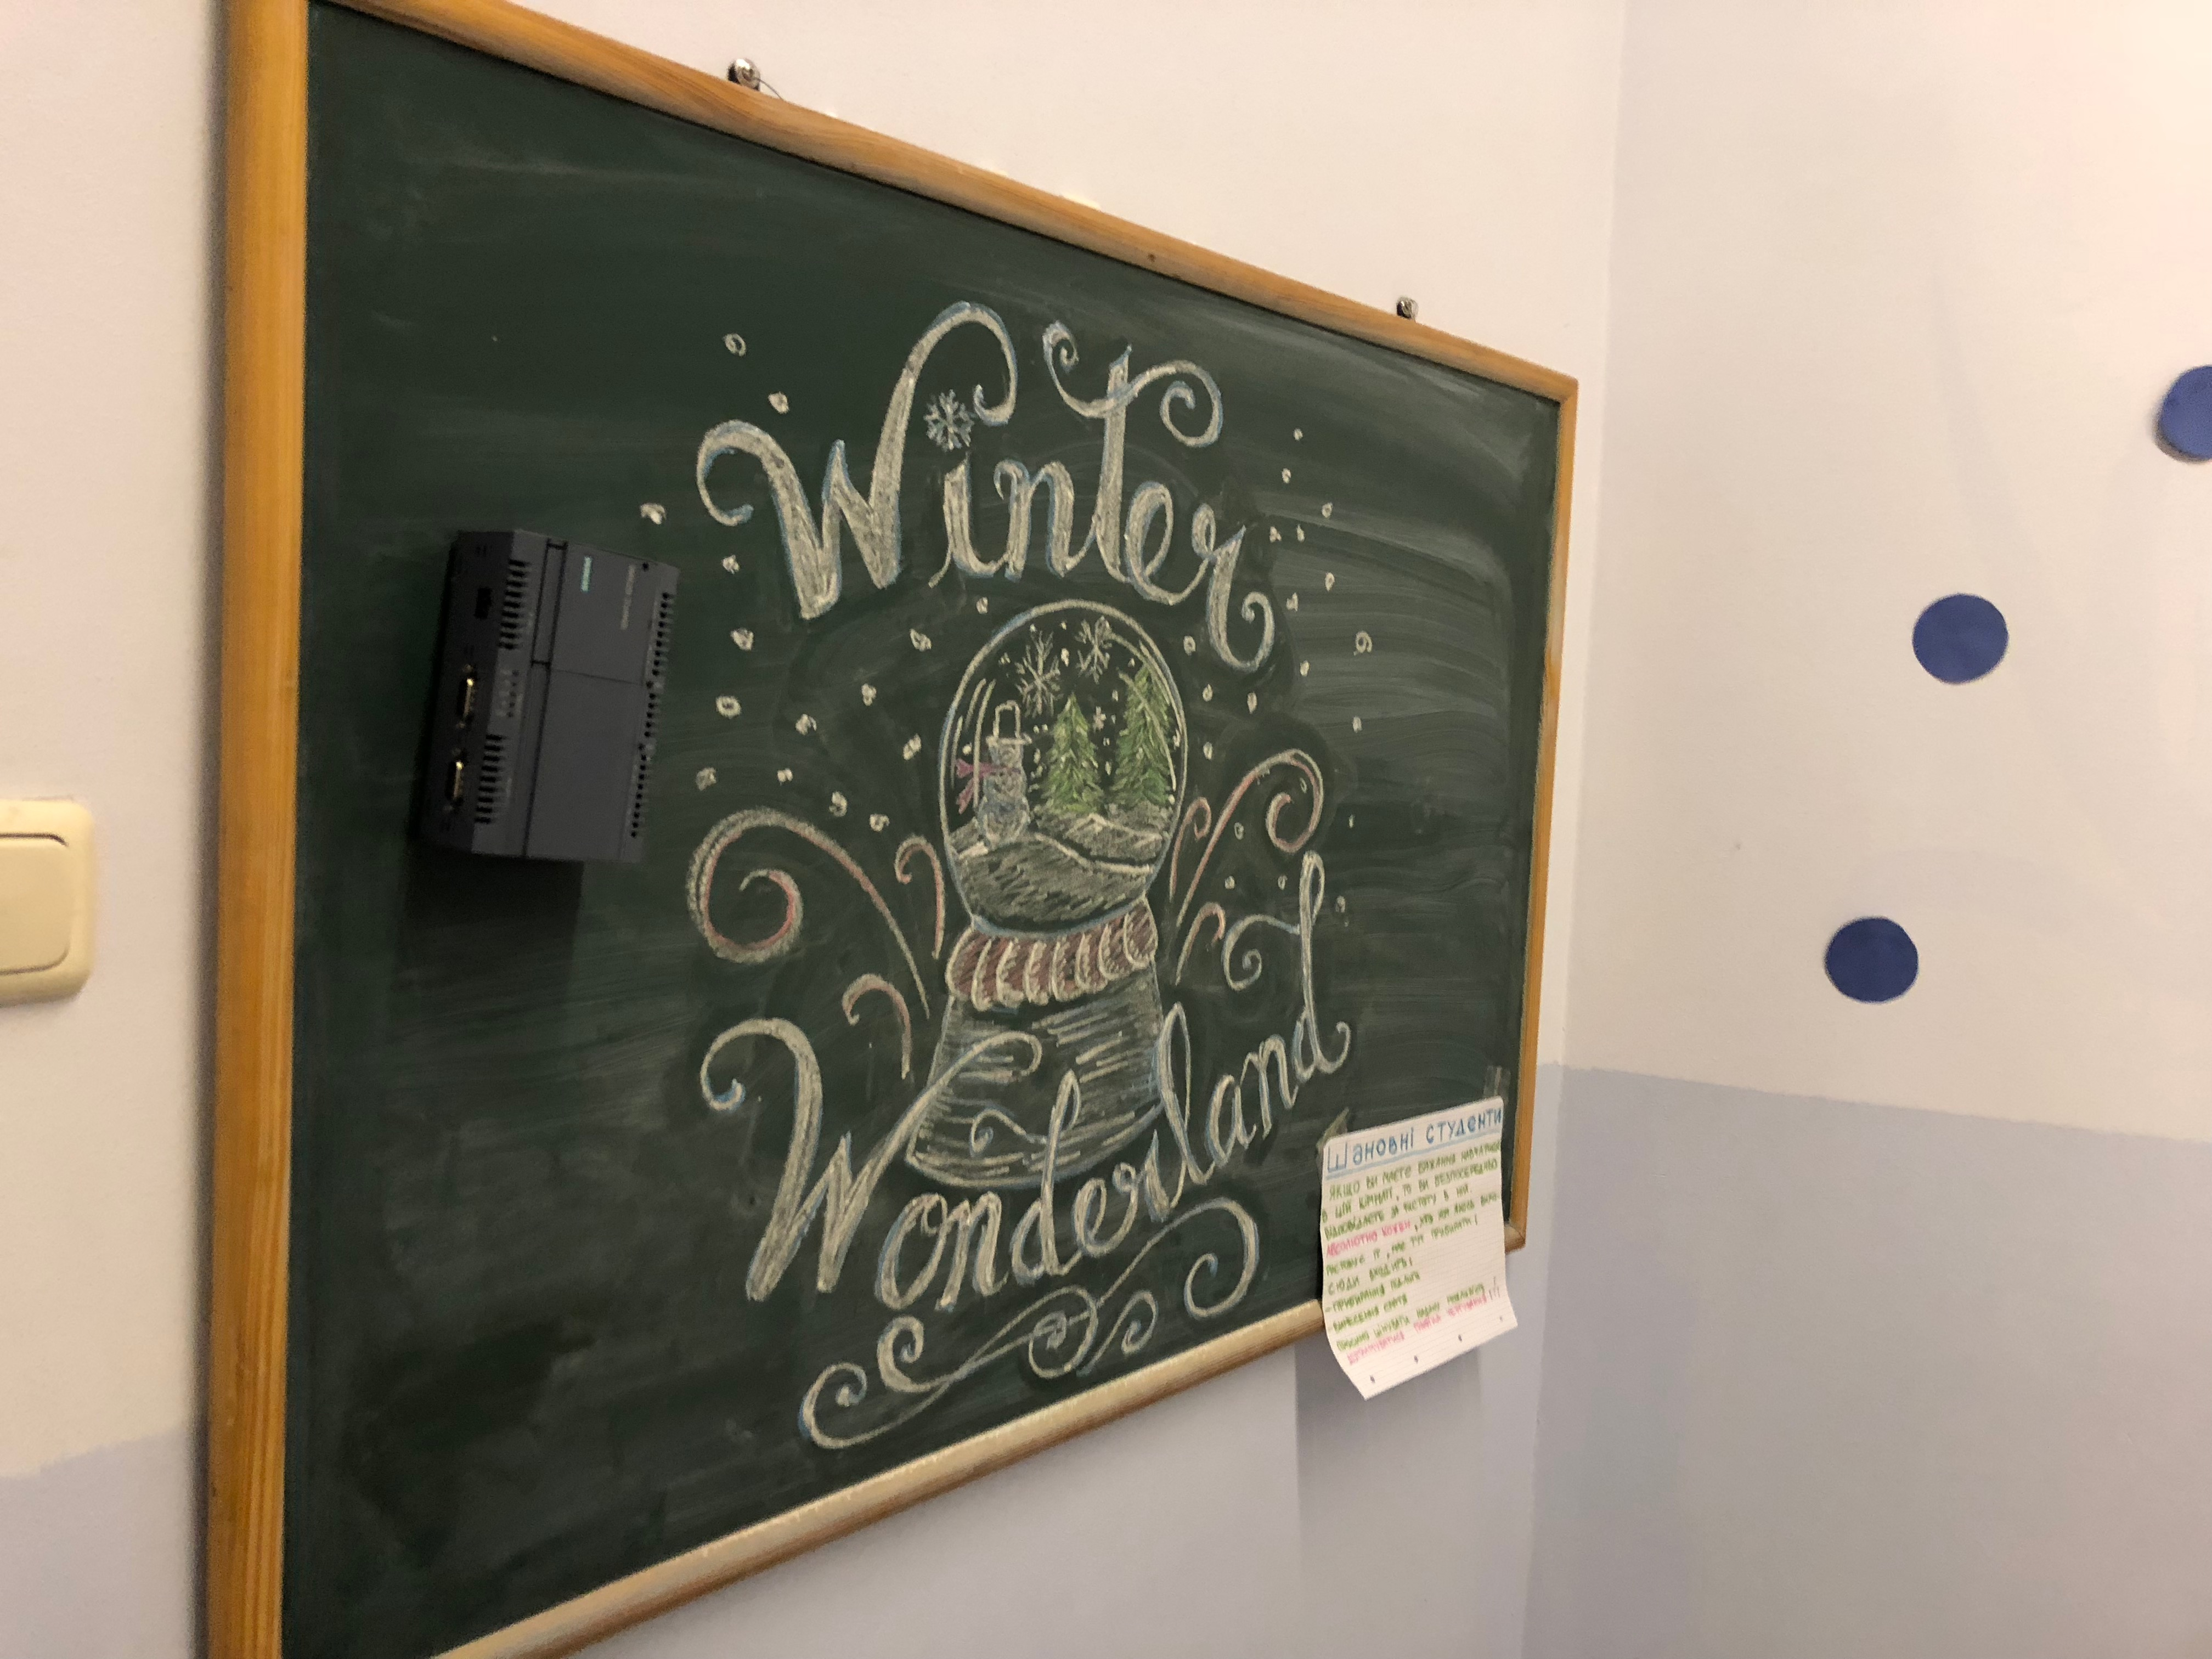device: (430, 530, 681, 863)
